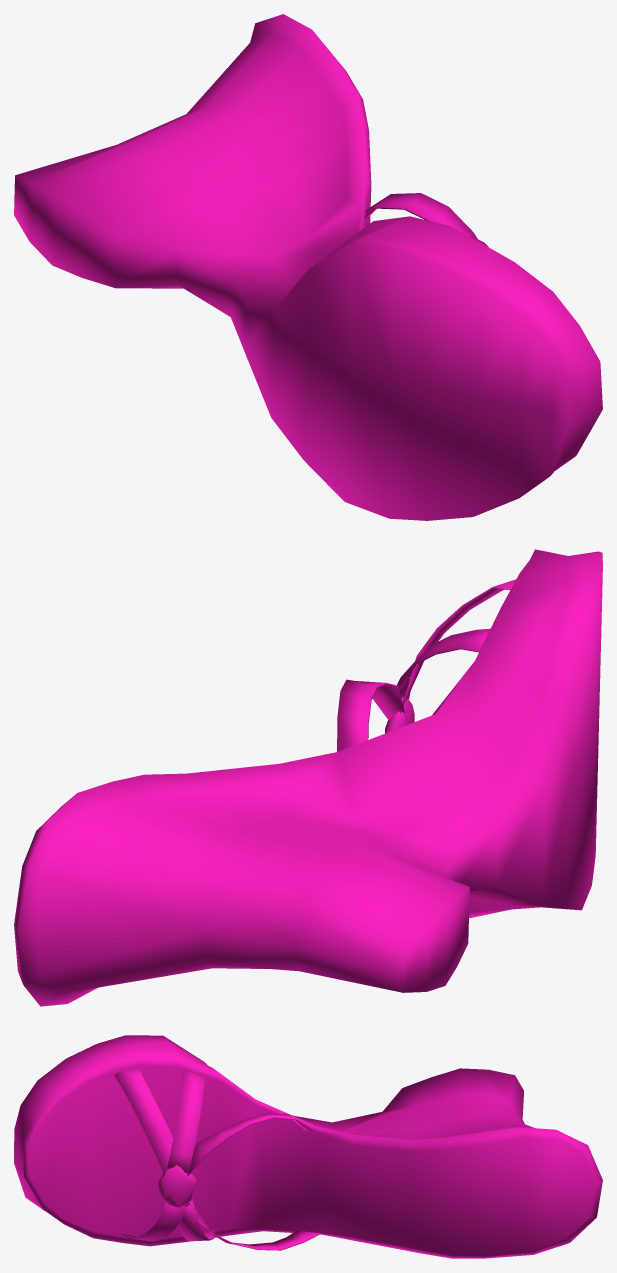
Rendered from shoe3_5.dae.
3 views of the same model, one above another, from view 1: azimuth 30°, elevation 25°; view 2: azimuth 150°, elevation 25°; view 3: azimuth 270°, elevation 25° (orthographic). The views are drawn at different scales.
Parts seen in each view (by area): view 1: shoe3_019; view 2: shoe3_019; view 3: shoe3_019.
Part boxes in pixels (left/top/right/bottom): shoe3_019: left=14, top=14, right=602, bottom=520; shoe3_019: left=14, top=549, right=602, bottom=1006; shoe3_019: left=14, top=1035, right=602, bottom=1258.
Bounding box in the file's own units: 0.1426 × 0.3367 × 0.1204.
